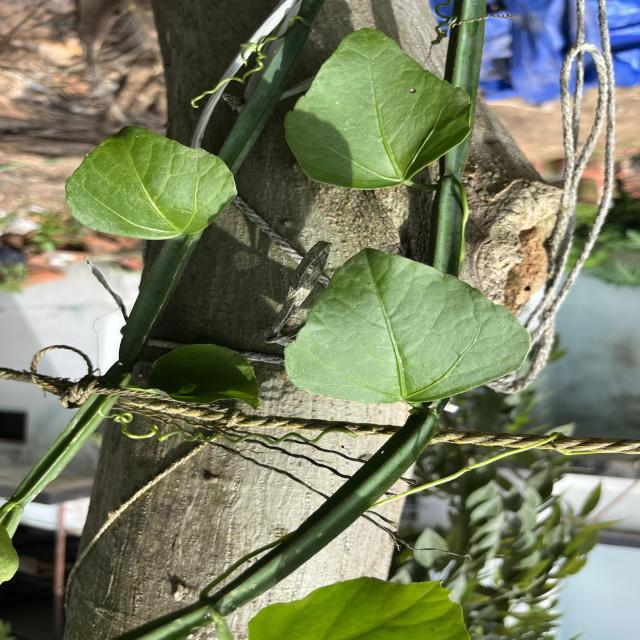Cissus quadrangularis: (280, 245, 536, 409), (280, 25, 476, 192), (62, 124, 240, 246)
